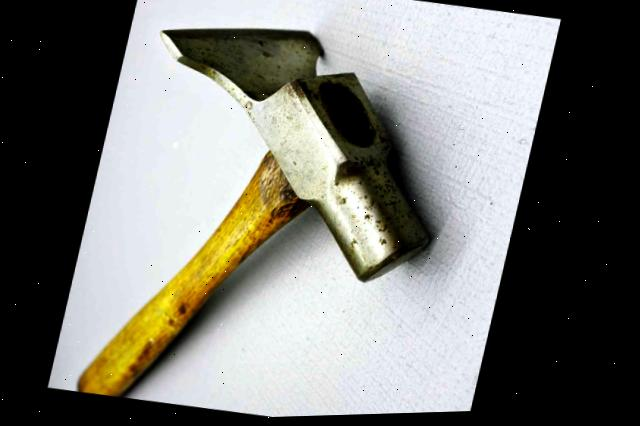hammer: (72, 0, 488, 424)
